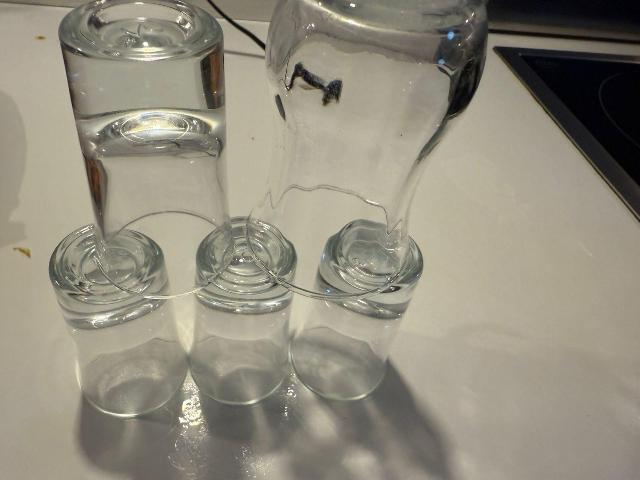Cam: (35, 0, 477, 407), (251, 0, 474, 300), (39, 0, 253, 285), (46, 237, 193, 406), (179, 216, 297, 401), (298, 230, 411, 395)
